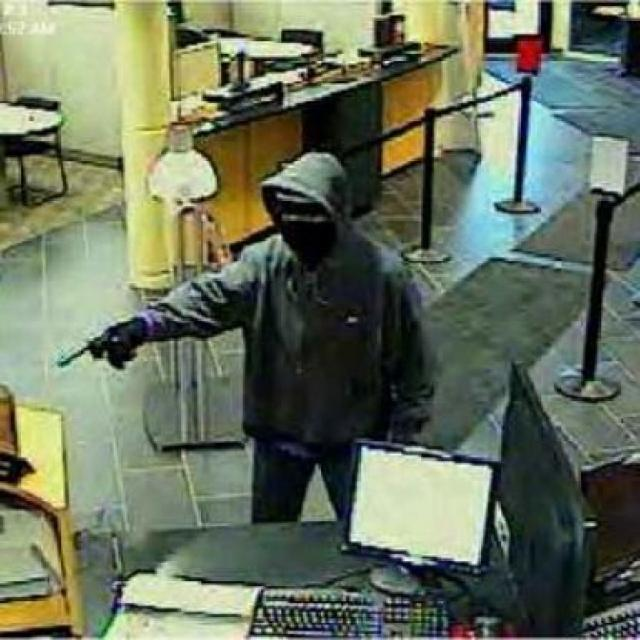weapon: (46, 318, 145, 376)
